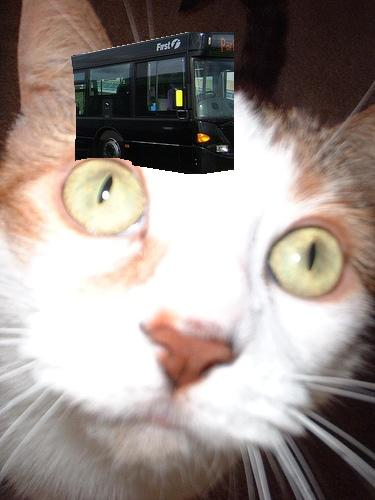tampered: (72, 33, 234, 174)
